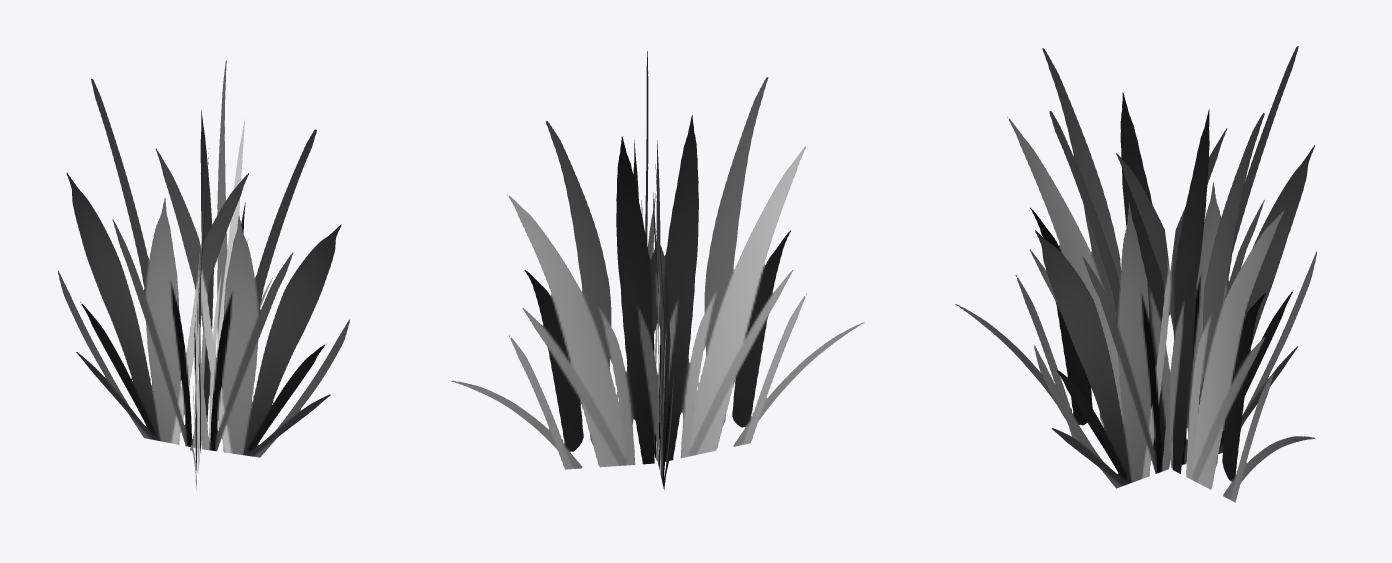
Rendered from Grass_1.fbx.
The picture shows the model from 3 angles, left to right: view 1: azimuth 30°, elevation 25°; view 2: azimuth 150°, elevation 25°; view 3: azimuth 270°, elevation 25°; orthographic projection. The views are drawn at different scales.
Parts seen in each view (by area): view 1: pPlane47; view 2: pPlane47; view 3: pPlane47.
Part boxes in pixels (x1,y1,x2,y2): pPlane47: (58, 60, 349, 489); pPlane47: (451, 51, 864, 490); pPlane47: (955, 46, 1316, 502).
Bounding box in the file's own units: 30.99 × 39.53 × 42.01.
